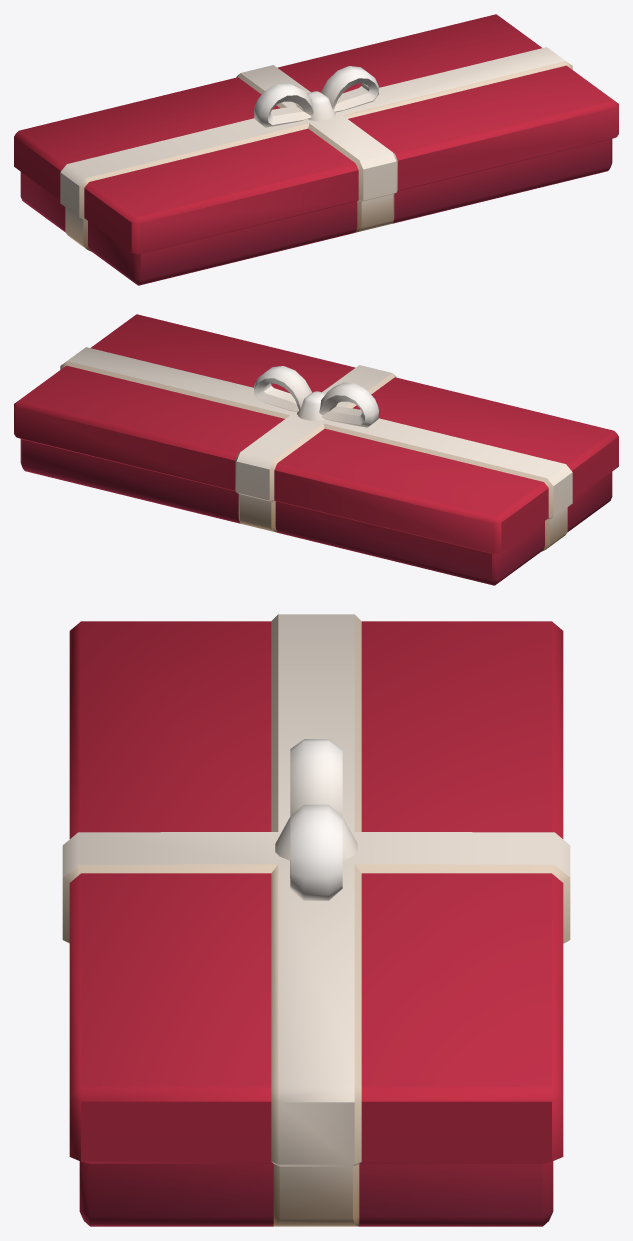
The model's file is present_F_red.fbx.
3 views of the same model, one above another, from view 1: azimuth 30°, elevation 25°; view 2: azimuth 150°, elevation 25°; view 3: azimuth 270°, elevation 25° (orthographic). The views are drawn at different scales.
Parts seen in each view (by area): view 1: present_F_red; view 2: present_F_red; view 3: present_F_red.
Boxes of the visible parts, bbox=[...] form: present_F_red: bbox=[14, 14, 618, 285]; present_F_red: bbox=[14, 314, 618, 585]; present_F_red: bbox=[62, 614, 570, 1226].
Bounding box in the file's own units: 216 × 46.17 × 96.38.
